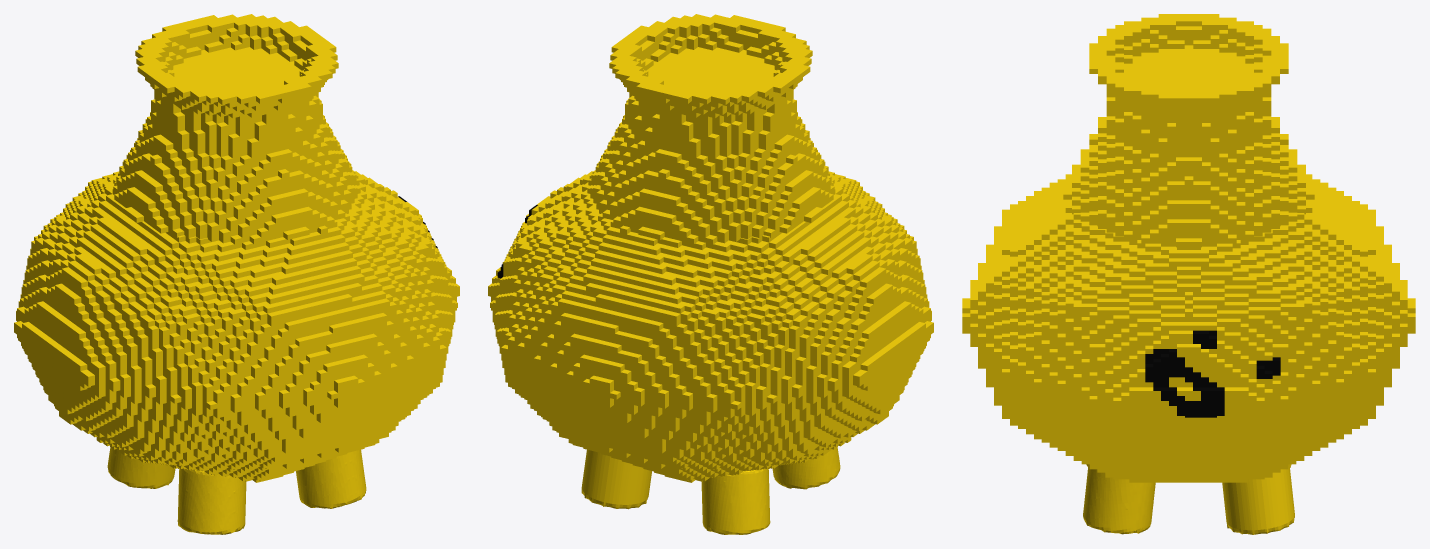
The model's file is GoldUFO.fbx.
3 renders of one model, left to right at view 1: azimuth 30°, elevation 25°; view 2: azimuth 150°, elevation 25°; view 3: azimuth 270°, elevation 25°, orthographic.
Visible parts, largest first — view 1: Icosphere, Cylinder, Cylinder.002; view 2: Icosphere, Cylinder, Cylinder.002; view 3: Icosphere, Cylinder, Cylinder.002.
Boxes of the visible parts, x1,y1,x2,y2 form: Icosphere: [14, 171, 459, 482]; Cylinder: [113, 14, 360, 244]; Cylinder.002: [107, 447, 366, 534]; Icosphere: [488, 171, 933, 482]; Cylinder: [587, 14, 834, 244]; Cylinder.002: [581, 447, 840, 534]; Icosphere: [962, 174, 1415, 482]; Cylinder: [1063, 14, 1314, 247]; Cylinder.002: [1083, 464, 1294, 534].
Bounding box in the file's own units: 191 × 212 × 198.
